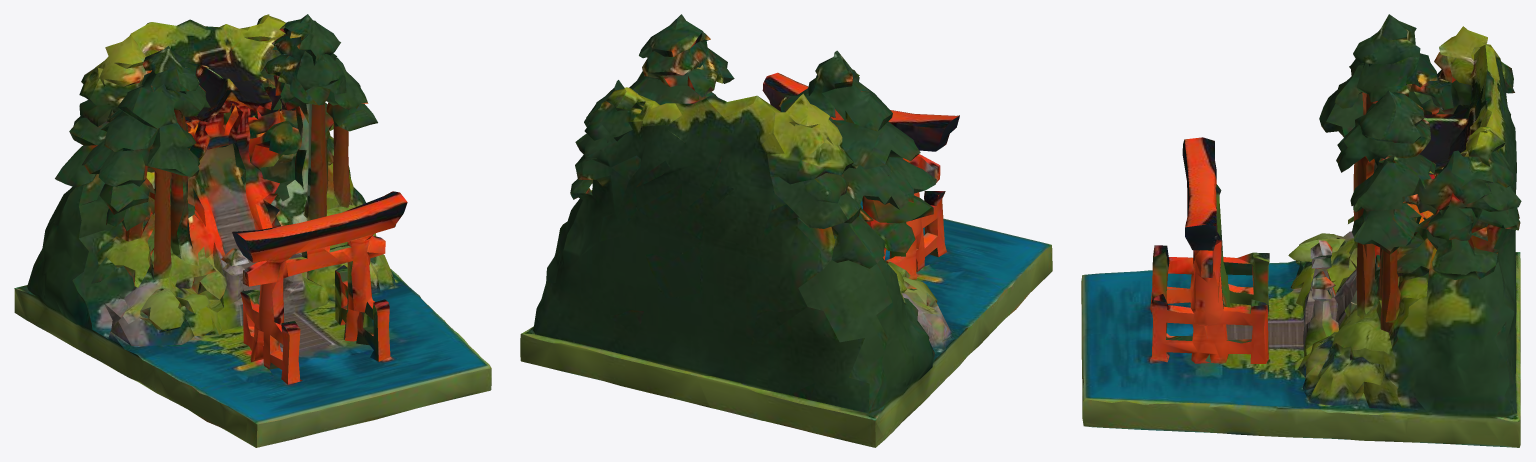
The model's file is hakone-shrine.glb.
3 renders of one model, left to right at view 1: azimuth 30°, elevation 25°; view 2: azimuth 150°, elevation 25°; view 3: azimuth 270°, elevation 25°, orthographic. The views are drawn at different scales.
Visible parts, largest first — view 1: logan-textured.obj; view 2: logan-textured.obj; view 3: logan-textured.obj.
Boxes of the visible parts, box(x1,y1,x2,y2) form: logan-textured.obj: box(14, 14, 491, 447); logan-textured.obj: box(520, 14, 1052, 447); logan-textured.obj: box(1081, 14, 1521, 447).
Size of the model in its own units: 0.9122 by 0.7928 by 1.
Materials: 1 (1 with a texture image).
